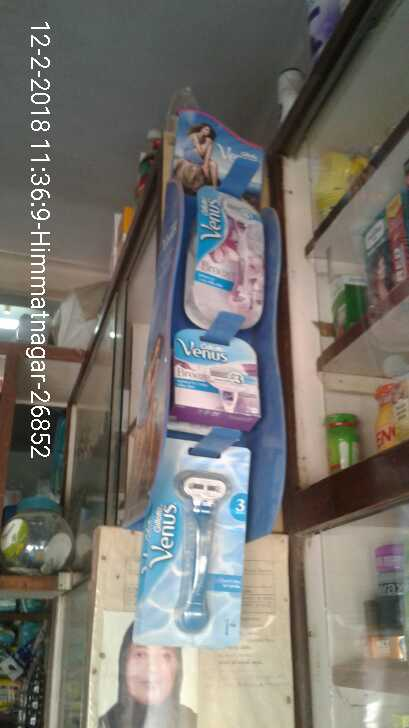venus: (148, 430, 253, 644), (191, 172, 267, 328), (166, 325, 266, 426)
